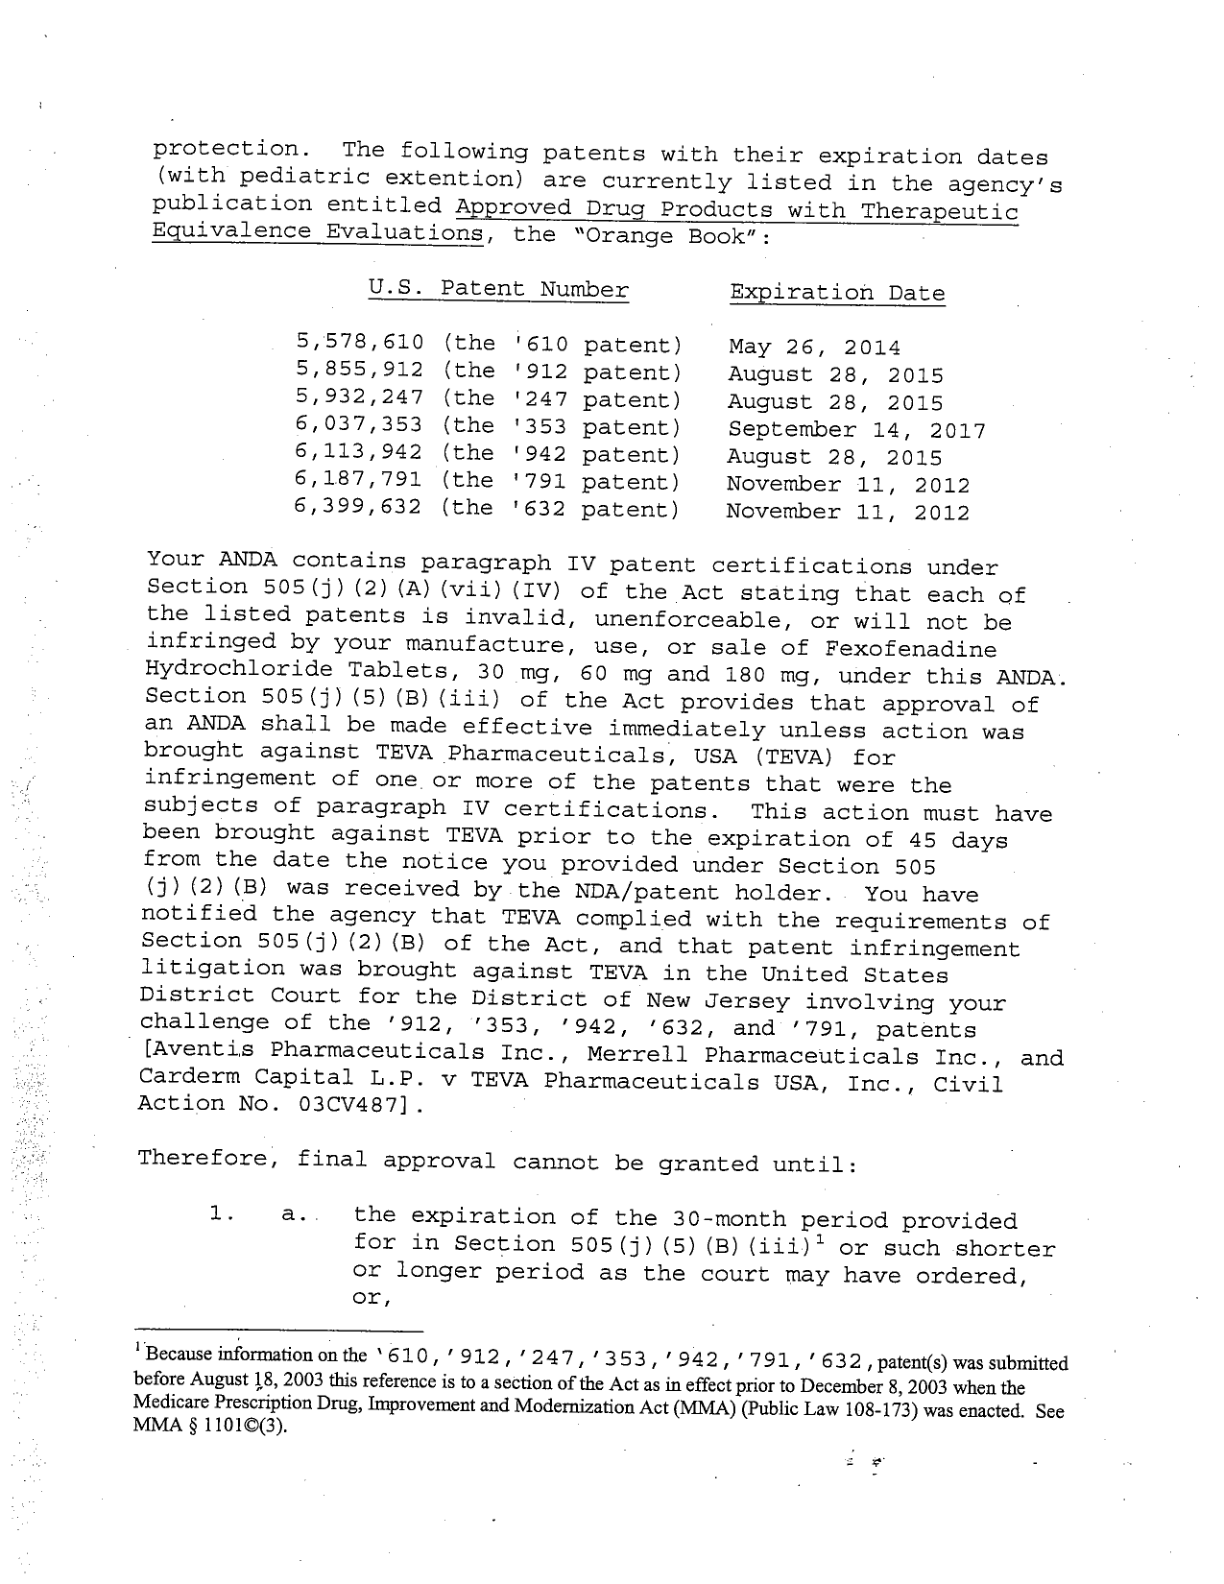nolines: (294, 275, 987, 525)
